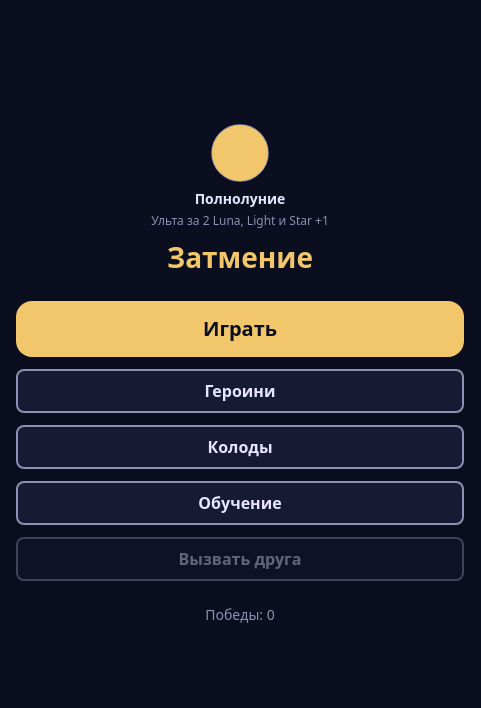
Test case: App › кнопка «Героини» открывает сетку героинь
This screenshot has width=481, height=708.
Click the button "Героини". click: (240, 391)
box: top-left (16, 369), bottom-right (464, 413)
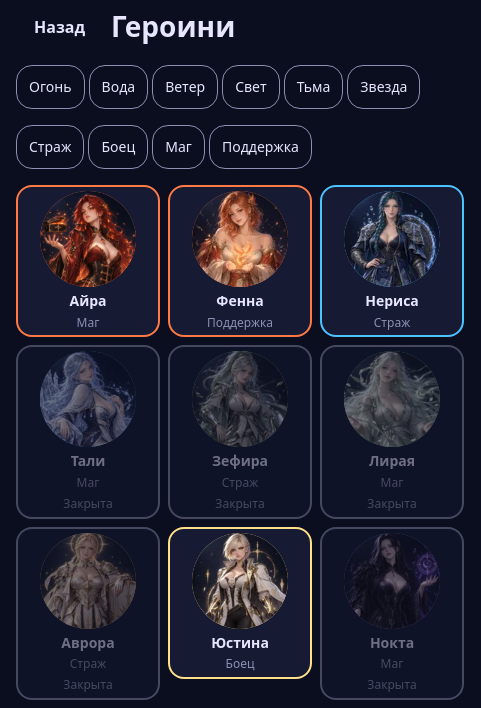
Result: the button with test id "hero-tile-aira" is shown at top-left (16, 185), bottom-right (160, 337)
